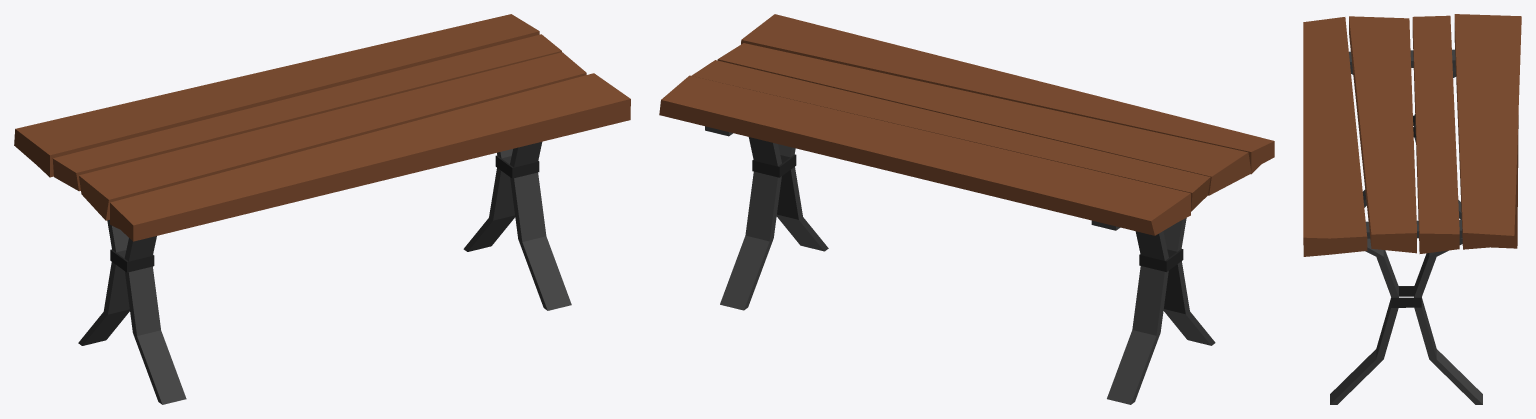
The model's file is tablemetalwood01.obj.
3 renders of one model, left to right at view 1: azimuth 30°, elevation 25°; view 2: azimuth 150°, elevation 25°; view 3: azimuth 270°, elevation 25°, orthographic. The views are drawn at different scales.
Visible parts, largest first — view 1: Cube.001_Cube; view 2: Cube.001_Cube; view 3: Cube.001_Cube.
Boxes of the visible parts, x1,y1,x2,y2 form: Cube.001_Cube: (14, 14, 630, 404); Cube.001_Cube: (659, 14, 1274, 404); Cube.001_Cube: (1303, 14, 1521, 404).
Size of the model in its own units: 2.08 by 0.8334 by 0.8671.
